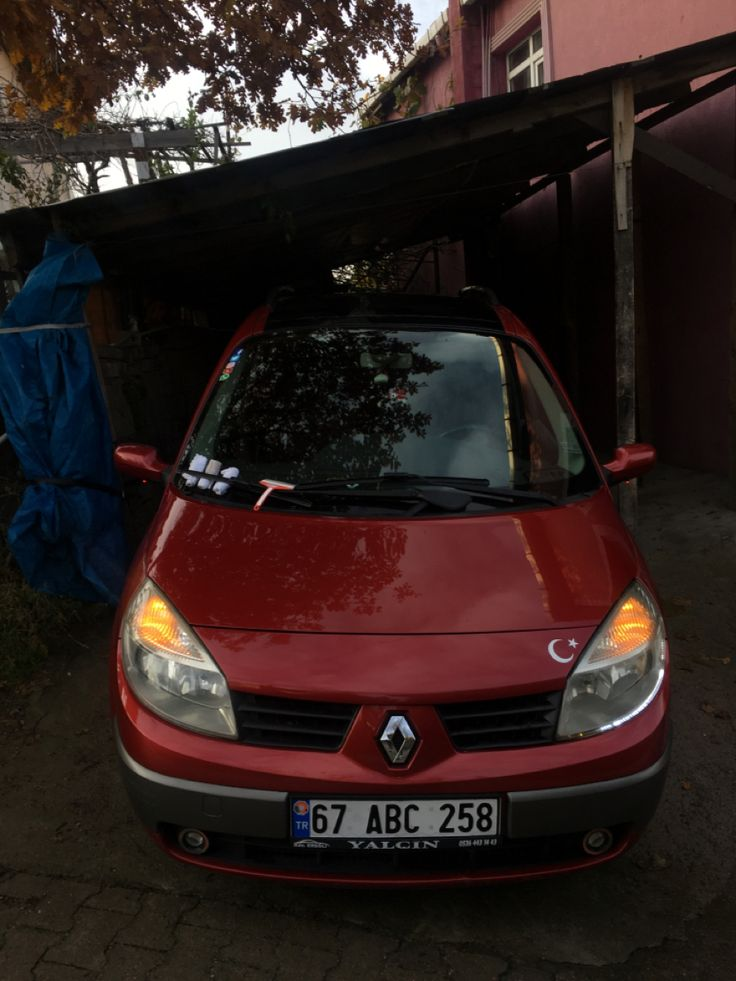plate: (288, 795, 507, 846)
